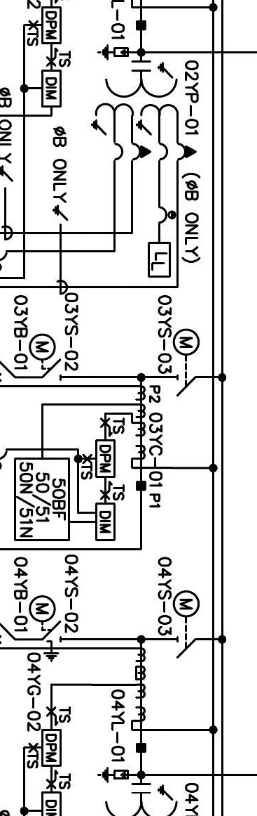115_1way_ds_w_motor: (172, 328, 201, 397), (172, 590, 201, 659), (28, 332, 62, 381)
115_3ways_ds_w_motor: (28, 595, 62, 663)
115_cvt_1p: (90, 60, 197, 162)
115_la: (97, 44, 129, 61), (97, 766, 129, 783)
DIM: (95, 502, 116, 542), (41, 69, 62, 108)
DPM: (95, 439, 116, 478), (41, 6, 62, 44), (41, 729, 62, 767)
LL: (147, 242, 171, 278)
